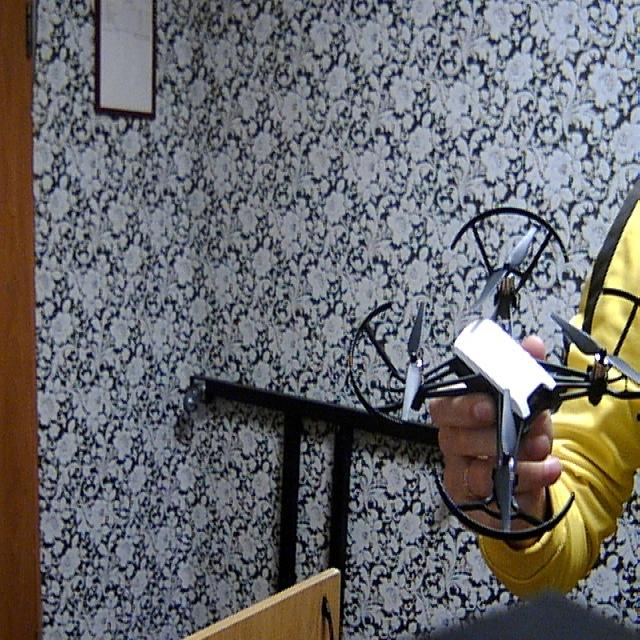drone: (347, 200, 640, 553)
